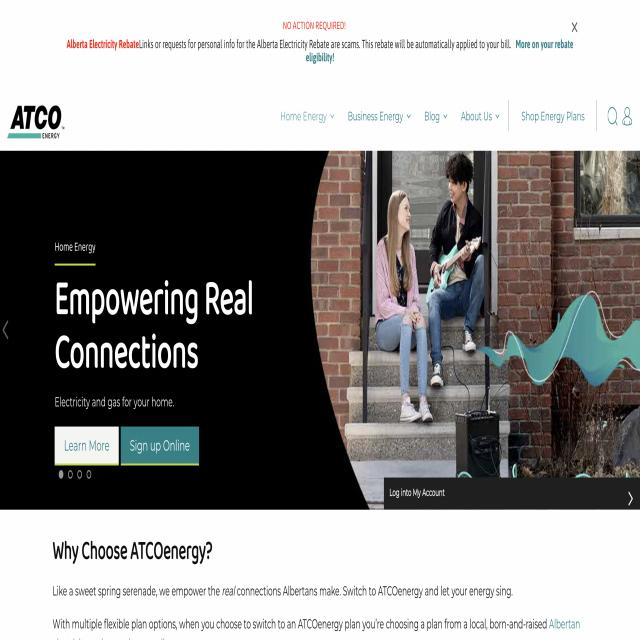Logo: (6, 89, 68, 147)
Navigation: (267, 87, 634, 145)
